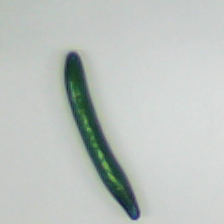cucumber: (29, 35, 166, 224)
